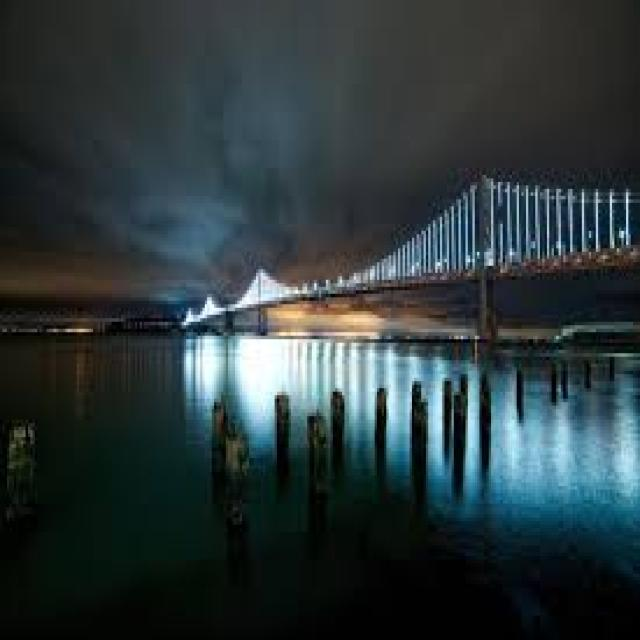Bridges: (160, 125, 640, 375)
